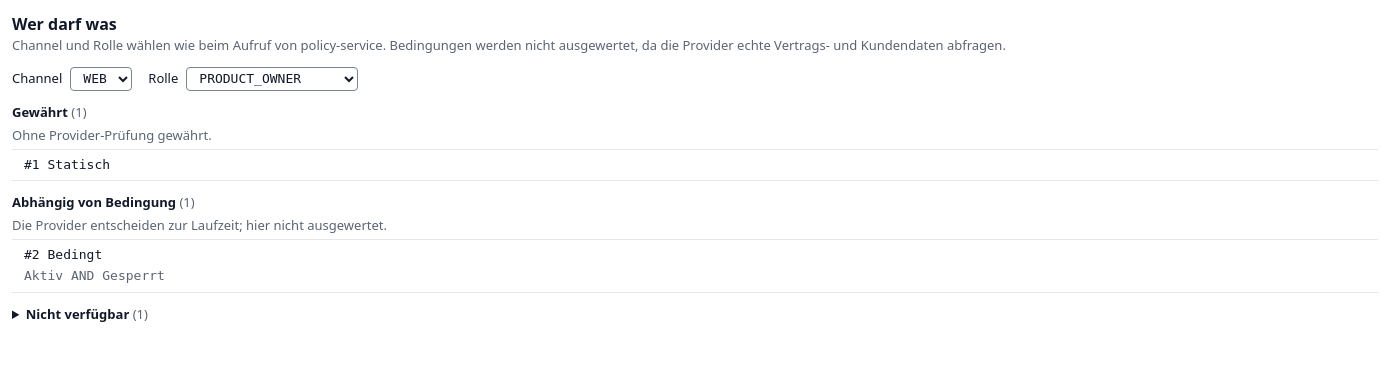
Test: AccessView › Erfolg: Wechsel von Channel und Rolle ordnet neu ein
Later steps or results of the test are not shown.
Step 1. Select "INTERESTED_PERSON" in the dropdown labelled "Rolle" → x=272, y=79, box [186, 67, 358, 91]
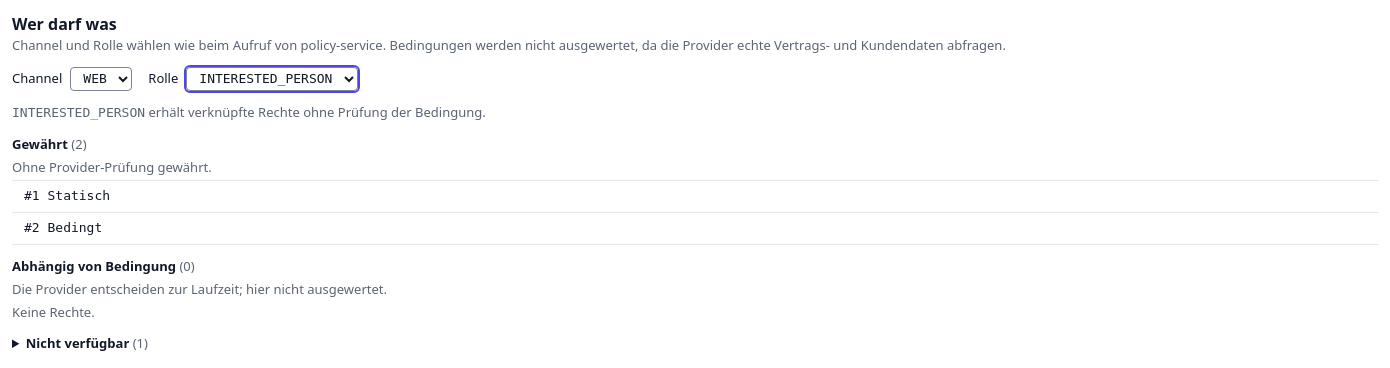
Check: the text "erhält verknüpfte Rechte ohne Prüfung der Bedingung" is shown, box [145, 103, 486, 121]
Step 2. Select "APP" in the dropdown labelled "Channel" → x=101, y=79, box [70, 67, 132, 91]
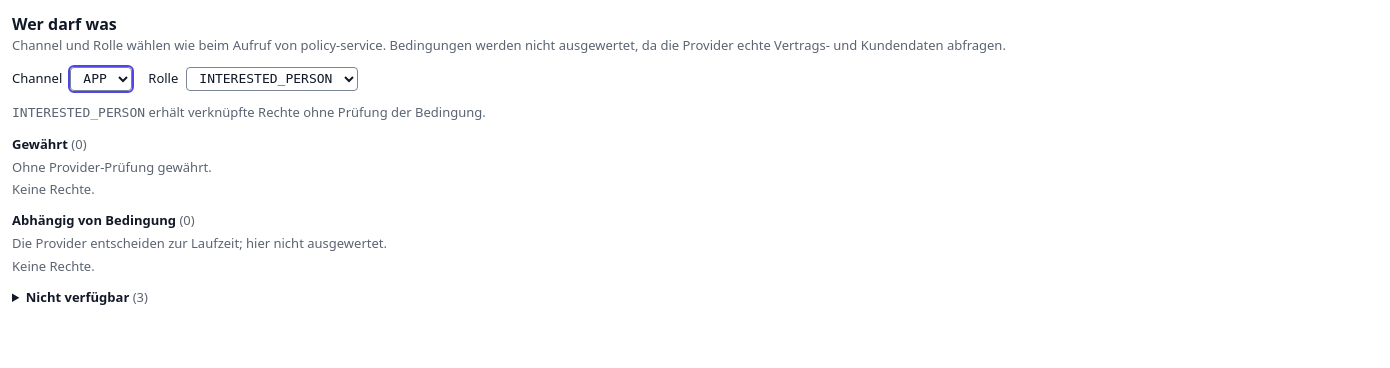
Check: the text "Keine Rechte." is shown 2 times, box [12, 180, 95, 198]; [12, 257, 95, 275]
